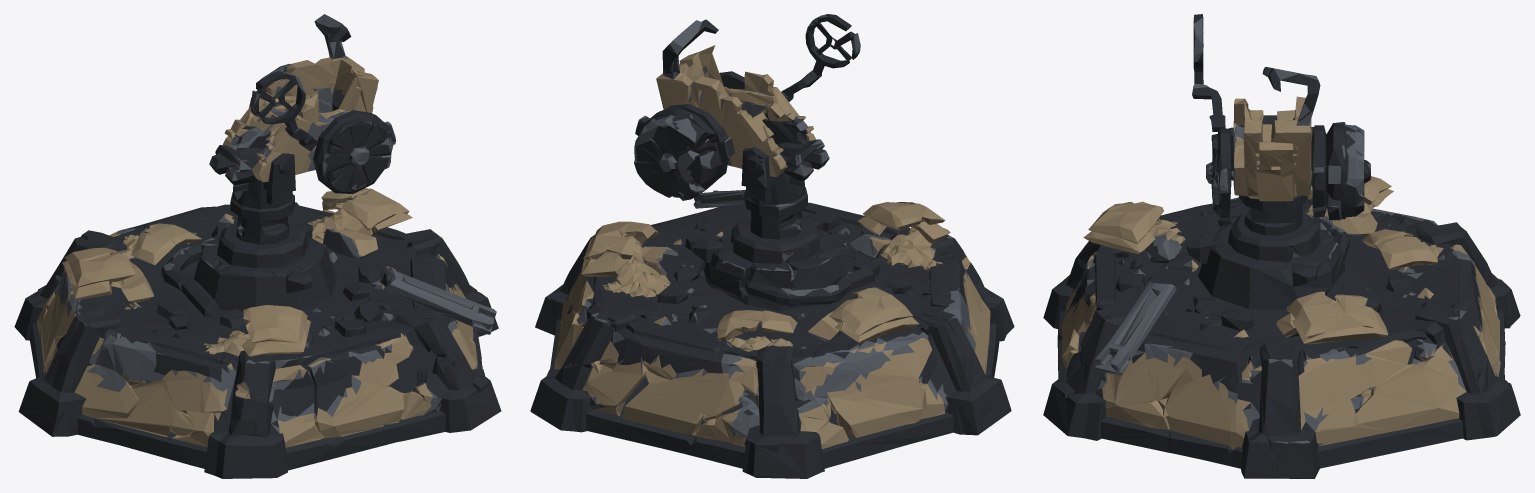
Rendered from aa3-halcon-destruida.glb.
The picture shows the model from 3 angles, left to right: view 1: azimuth 30°, elevation 25°; view 2: azimuth 150°, elevation 25°; view 3: azimuth 270°, elevation 25°; orthographic projection. The views are drawn at different scales.
Visible parts, largest first — view 1: hull; view 2: hull; view 3: hull.
Boxes of the visible parts, bbox=[...] form: hull: bbox=[14, 14, 501, 478]; hull: bbox=[530, 14, 1014, 478]; hull: bbox=[1043, 14, 1520, 478].
Bounding box in the file's own units: 1.11 × 0.7918 × 1.
